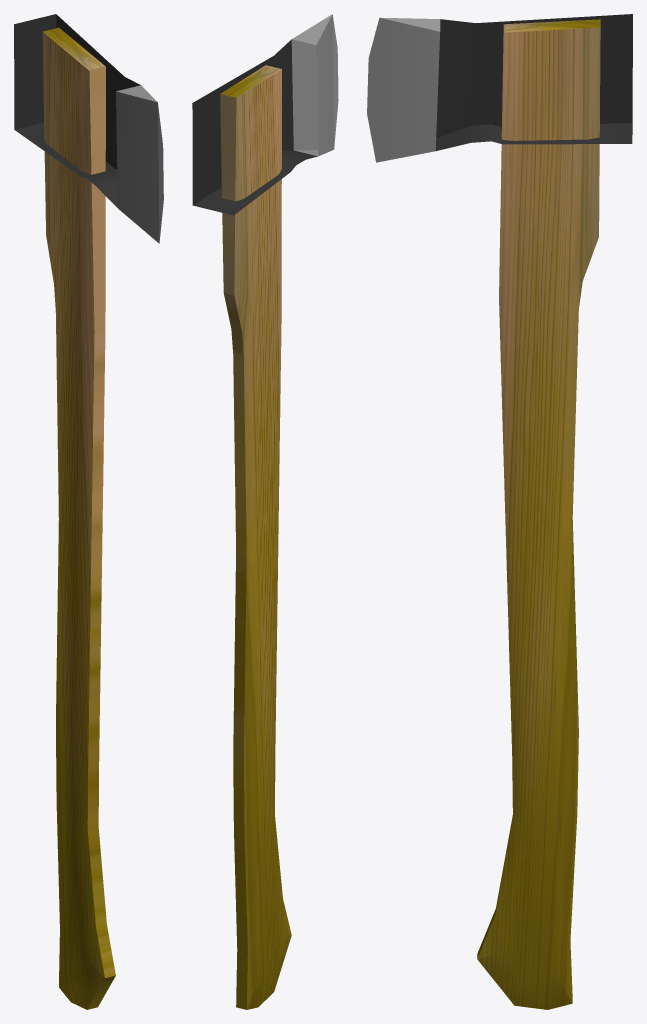
Rendered from hand_axe_low_poly.glb.
The picture shows the model from 3 angles, left to right: view 1: azimuth 30°, elevation 25°; view 2: azimuth 150°, elevation 25°; view 3: azimuth 270°, elevation 25°; orthographic projection. The views are drawn at different scales.
Visible parts, largest first — view 1: Object_4, Object_2, Object_3; view 2: Object_4, Object_2, Object_3; view 3: Object_4, Object_2, Object_3.
Part boxes in pixels (x1=…): Object_4: x1=42, y1=27, x2=115, y2=1009; Object_2: x1=14, y1=14, x2=140, y2=207; Object_3: x1=116, y1=85, x2=163, y2=243; Object_4: x1=220, y1=65, x2=291, y2=1009; Object_2: x1=192, y1=39, x2=317, y2=215; Object_3: x1=291, y1=14, x2=338, y2=156; Object_4: x1=477, y1=19, x2=600, y2=1009; Object_2: x1=435, y1=14, x2=632, y2=150; Object_3: x1=367, y1=17, x2=440, y2=162.
Bounding box in the file's own units: 0.2 × 4.35 × 1.06.
Materials: 3 (1 with a texture image).
